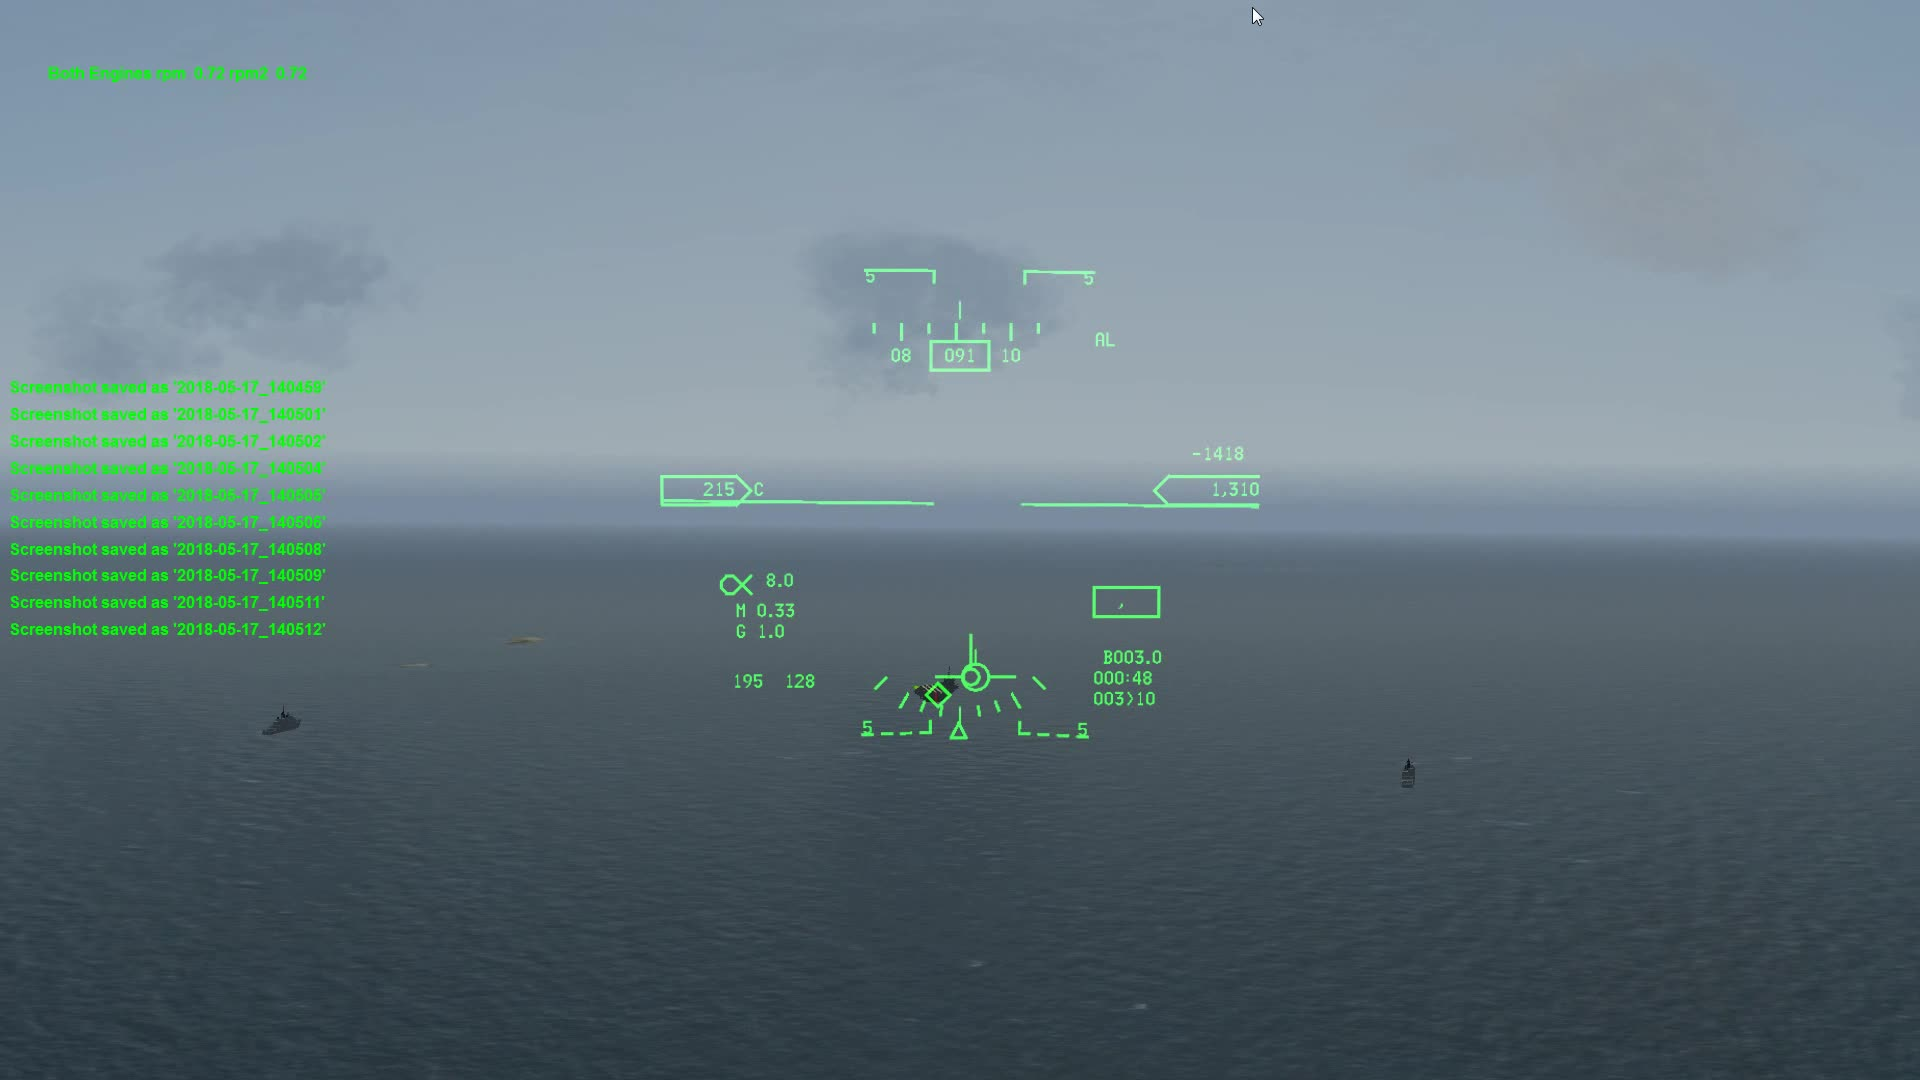speed vector: (924, 644, 1021, 694)
